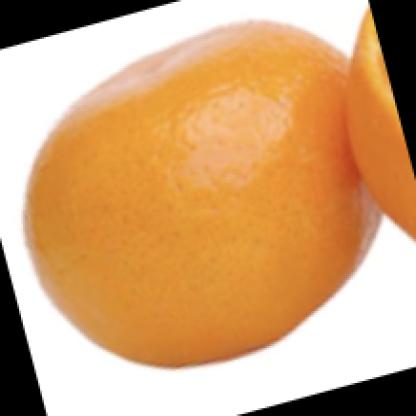fresh: (26, 20, 379, 372)
